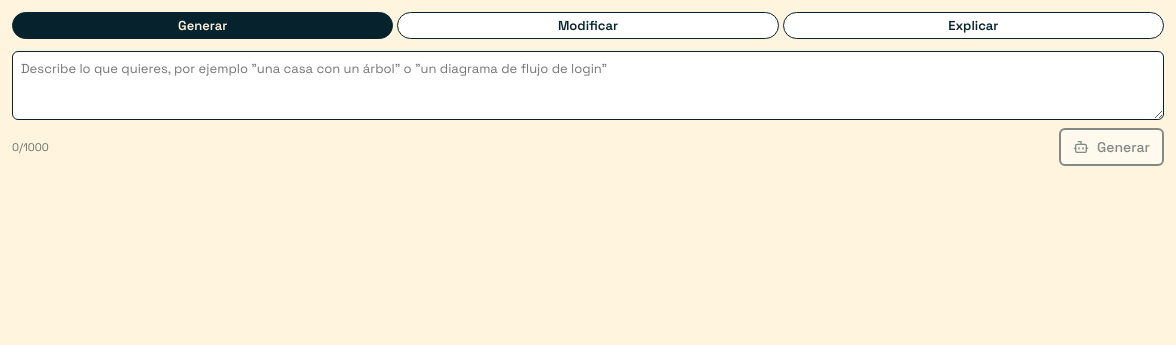
Test: AssistantPanel › is honest when the proposal does not compile and labels the button accordingly
Click the tab "Modificar".
click(588, 26)  # box [397, 12, 779, 39]
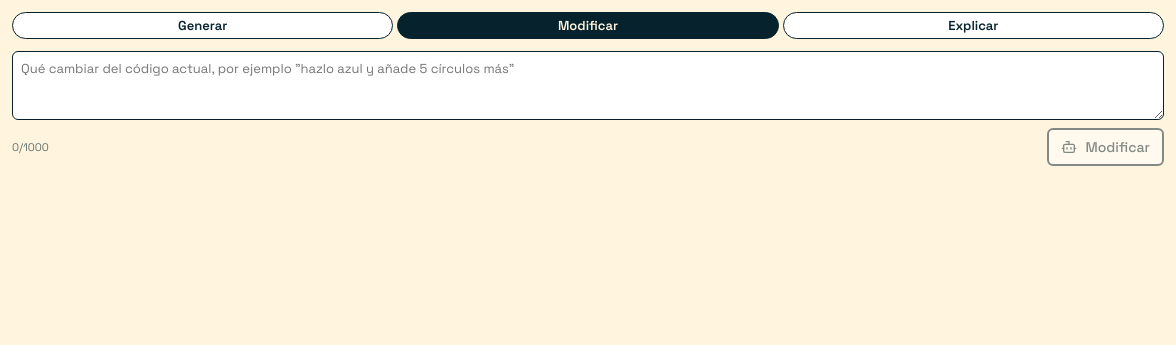
Replace the text in the text box named "Instrucción para el asistente" with "x" at (588, 86), box [12, 51, 1164, 120]
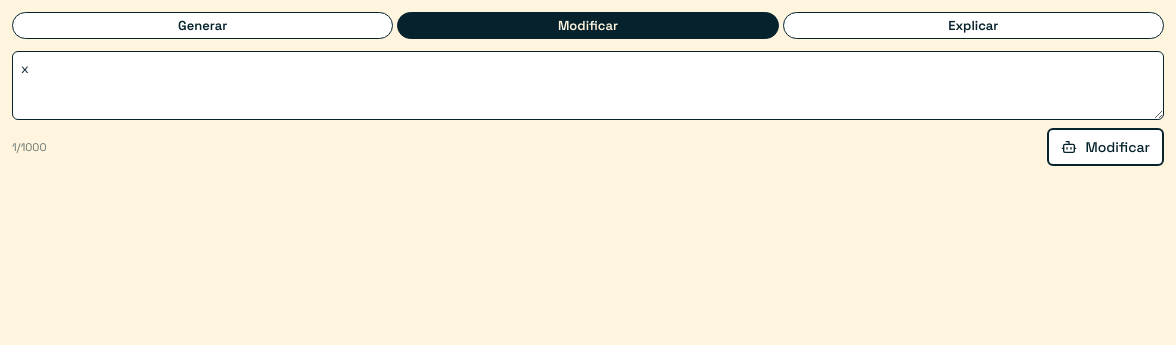
Click the button "Modificar".
click(1106, 147)  # box [1048, 128, 1164, 166]
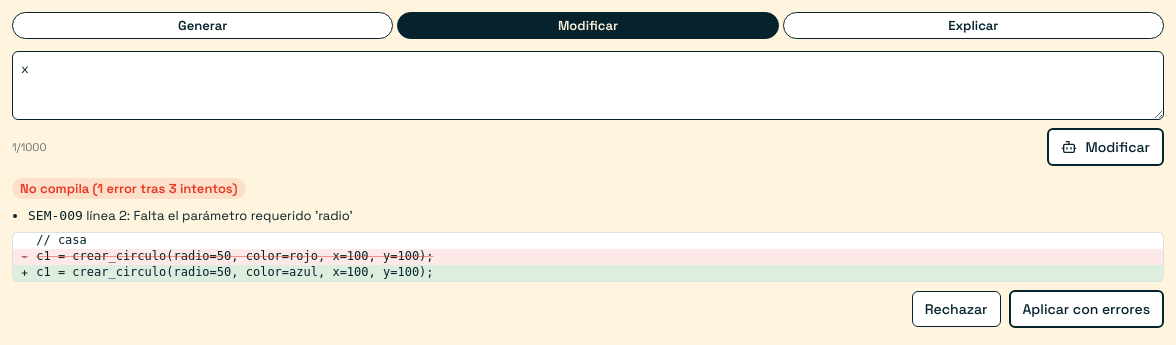
Result: the text "No compila (1 error tras 3 intentos)" is shown at [12, 178, 246, 199]
Result: the list item "SEM-009 línea 2: Falta el parámetro requerido 'radio'" is shown at [28, 207, 353, 224]
Result: the button "Aplicar con errores" is shown at [1008, 290, 1164, 328]
